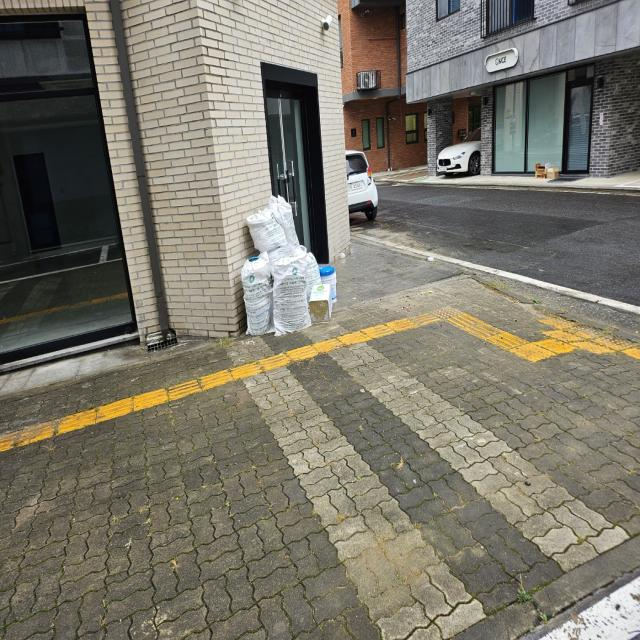PP bag: (239, 207, 332, 341)
